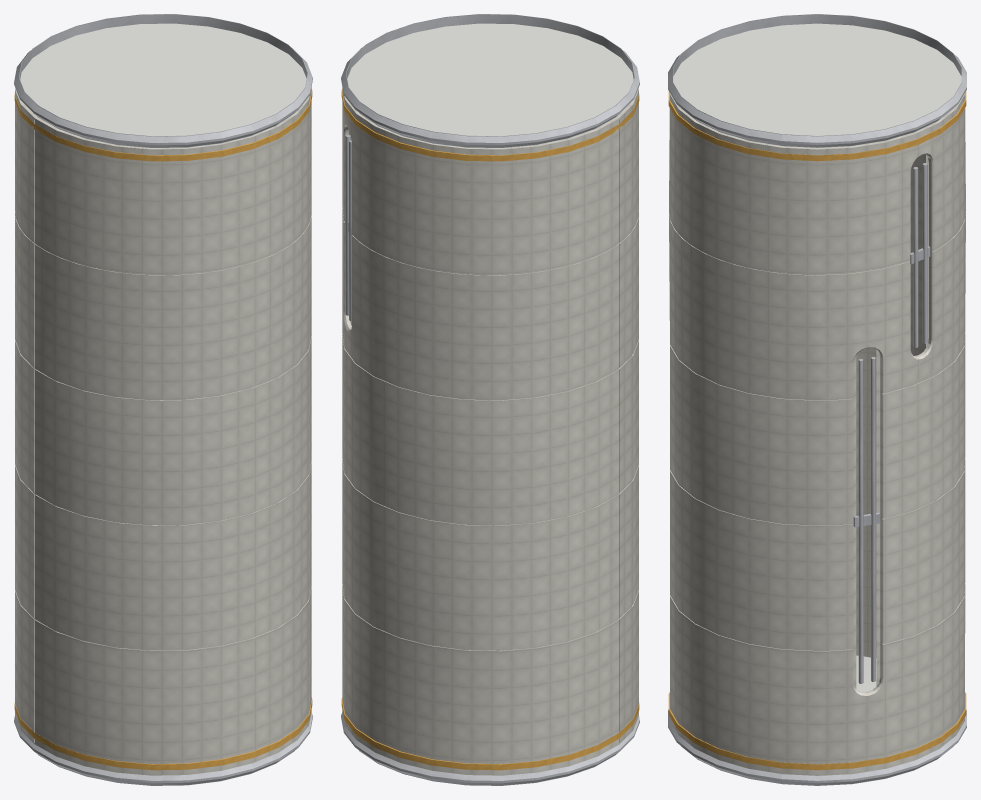
File: ax_tank_05_hydrolox_l_long.glb
3 views of the same model, side by side, from view 1: azimuth 30°, elevation 25°; view 2: azimuth 150°, elevation 25°; view 3: azimuth 270°, elevation 25° (orthographic).
Parts seen in each view (by area): view 1: mli_blanket, dome_caps, end_rings, blanket_bands; view 2: mli_blanket, dome_caps, end_rings, blanket_bands, raceway_lines; view 3: mli_blanket, dome_caps, end_rings, raceway_lines, blanket_bands.
Part boxes in pixels (box(x1,y1,x2,y2)): mli_blanket: box(15, 87, 311, 775); dome_caps: box(20, 23, 306, 136); end_rings: box(14, 14, 312, 785); blanket_bands: box(14, 89, 312, 770); mli_blanket: box(342, 87, 638, 775); dome_caps: box(347, 23, 633, 136); end_rings: box(341, 14, 639, 785); blanket_bands: box(341, 89, 639, 770); raceway_lines: box(345, 135, 352, 324); mli_blanket: box(669, 93, 965, 775); dome_caps: box(673, 23, 961, 691); end_rings: box(668, 14, 966, 785); raceway_lines: box(853, 163, 930, 683); blanket_bands: box(668, 91, 966, 770).
Bounding box in the file's own units: 3.75 × 9 × 3.75.
Materials: 4 (3 with a texture image).
